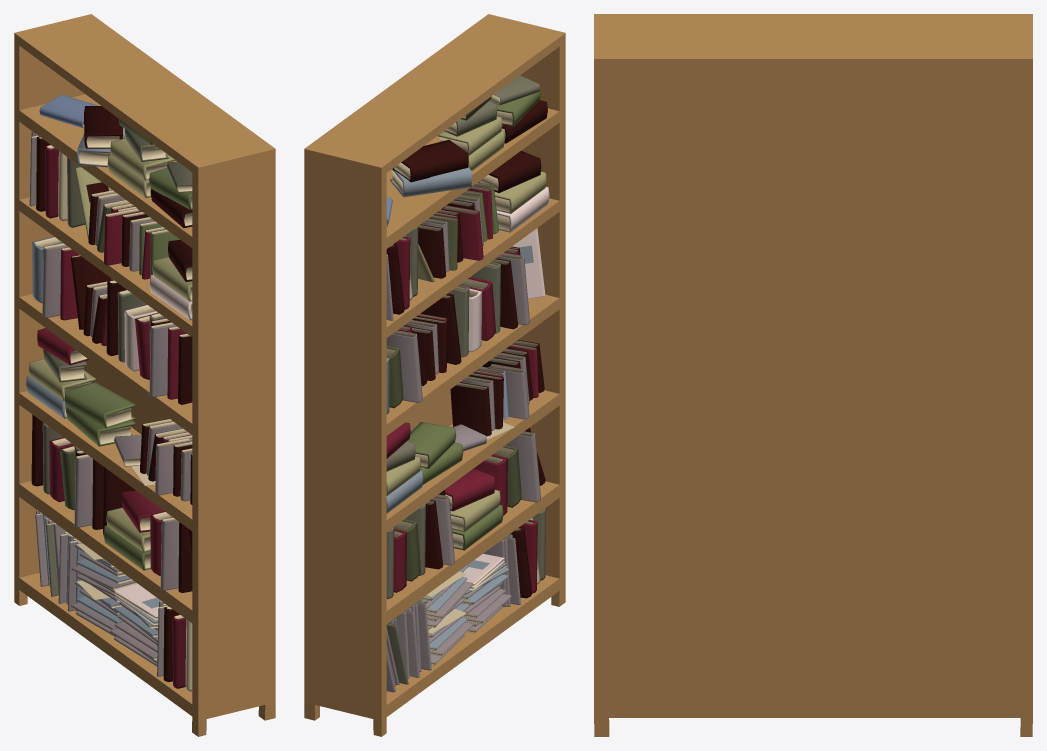
Rendered from bookshelf.fbx.
The picture shows the model from 3 angles, left to right: view 1: azimuth 30°, elevation 25°; view 2: azimuth 150°, elevation 25°; view 3: azimuth 270°, elevation 25°; orthographic projection. The views are drawn at different scales.
Visible parts, largest first — view 1: Cube.004; view 2: Cube.004; view 3: Cube.004.
Boxes of the visible parts, box(x1,y1,x2,y2) form: Cube.004: box(14, 14, 275, 736); Cube.004: box(304, 14, 565, 736); Cube.004: box(594, 14, 1032, 736).
Bounding box in the file's own units: 37.35 × 222 × 130.
